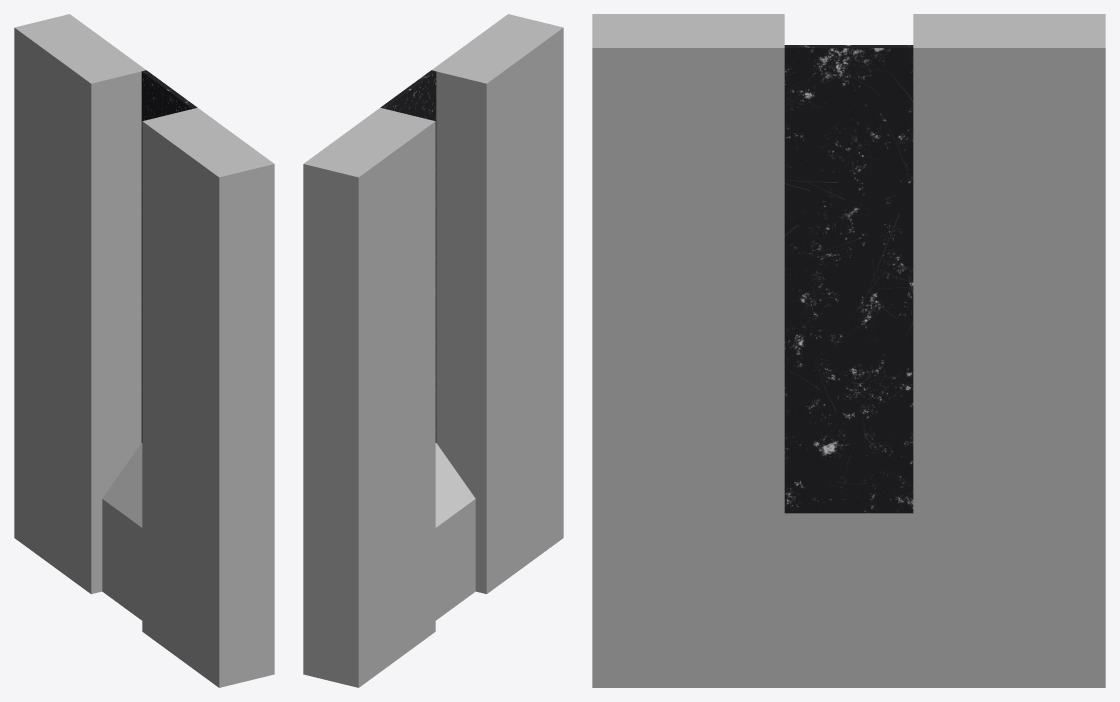
File: Site19_Wall_CB.gltf
3 views of the same model, side by side, from view 1: azimuth 30°, elevation 25°; view 2: azimuth 150°, elevation 25°; view 3: azimuth 270°, elevation 25° (orthographic). The views are drawn at different scales.
Parts seen in each view (by area): view 1: site19_wall_cb; view 2: site19_wall_cb; view 3: site19_wall_cb.
Boxes of the visible parts, x1,y1,x2,y2 form: site19_wall_cb: [14, 14, 274, 687]; site19_wall_cb: [303, 14, 563, 687]; site19_wall_cb: [592, 14, 1105, 687].
Size of the model in its own units: 0.8 by 7.04 by 5.12.
Materials: 2 (1 with a texture image).
